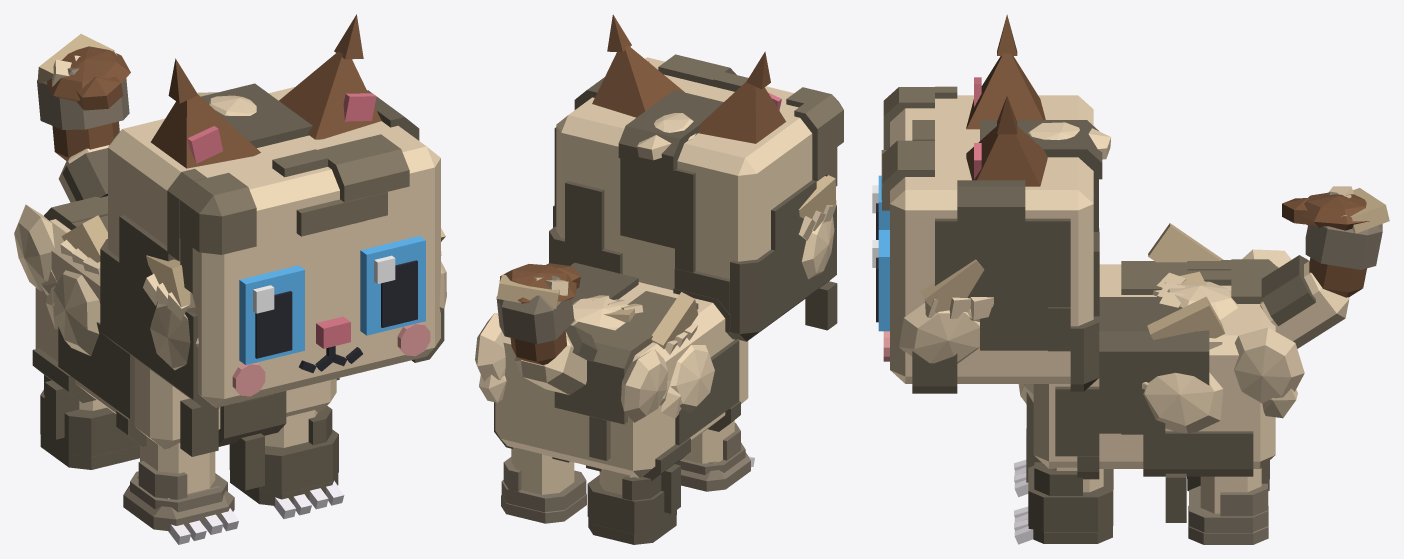
File: CleanACat_Cat_Toffee_Dirty.fbx
The picture shows the model from 3 angles, left to right: view 1: azimuth 30°, elevation 25°; view 2: azimuth 150°, elevation 25°; view 3: azimuth 270°, elevation 25°; orthographic projection. The views are drawn at different scales.
Visible parts, largest first — view 1: CleanACat_Cat_Toffee_Dirty_Head, CleanACat_Cat_Toffee_Dirty_Mud01, CleanACat_Cat_Toffee_Dirty_Mud03, CleanACat_Cat_Toffee_Dirty_Mud06, CleanACat_Cat_Toffee_Dirty_Body, CleanACat_Cat_Toffee_Dirty_EarL, CleanACat_Cat_Toffee_Dirty_Eye2, CleanACat_Cat_Toffee_Dirty_Eye1, CleanACat_Cat_Toffee_Dirty_EarR, CleanACat_Cat_Toffee_Dirty_Mud15, CleanACat_Cat_Toffee_Dirty_Mud16, CleanACat_Cat_Toffee_Dirty_Mud10 (+19 smaller); view 2: CleanACat_Cat_Toffee_Dirty_Head, CleanACat_Cat_Toffee_Dirty_Body, CleanACat_Cat_Toffee_Dirty_Mud01, CleanACat_Cat_Toffee_Dirty_Mud04, CleanACat_Cat_Toffee_Dirty_Mud09, CleanACat_Cat_Toffee_Dirty_Mud18, CleanACat_Cat_Toffee_Dirty_Mud05, CleanACat_Cat_Toffee_Dirty_EarL, CleanACat_Cat_Toffee_Dirty_EarR, CleanACat_Cat_Toffee_Dirty_Mud10, CleanACat_Cat_Toffee_Dirty_Tail, CleanACat_Cat_Toffee_Dirty_Mud06 (+23 smaller); view 3: CleanACat_Cat_Toffee_Dirty_Head, CleanACat_Cat_Toffee_Dirty_Mud02, CleanACat_Cat_Toffee_Dirty_Mud08, CleanACat_Cat_Toffee_Dirty_Body, CleanACat_Cat_Toffee_Dirty_Mud11, CleanACat_Cat_Toffee_Dirty_Mud15, CleanACat_Cat_Toffee_Dirty_Fluff09, CleanACat_Cat_Toffee_Dirty_EarL, CleanACat_Cat_Toffee_Dirty_Mud17, CleanACat_Cat_Toffee_Dirty_Tail, CleanACat_Cat_Toffee_Dirty_EarR, CleanACat_Cat_Toffee_Dirty_Fluff05 (+22 smaller).
Part boxes in pixels (x1,y1,x2,y2): CleanACat_Cat_Toffee_Dirty_Head: [108, 87, 440, 407]; CleanACat_Cat_Toffee_Dirty_Mud01: [100, 215, 219, 456]; CleanACat_Cat_Toffee_Dirty_Mud03: [272, 134, 409, 236]; CleanACat_Cat_Toffee_Dirty_Mud06: [167, 168, 256, 293]; CleanACat_Cat_Toffee_Dirty_Body: [35, 219, 336, 449]; CleanACat_Cat_Toffee_Dirty_EarL: [279, 14, 381, 139]; CleanACat_Cat_Toffee_Dirty_Eye2: [239, 265, 304, 364]; CleanACat_Cat_Toffee_Dirty_Eye1: [360, 236, 425, 335]; CleanACat_Cat_Toffee_Dirty_EarR: [151, 58, 260, 168]; CleanACat_Cat_Toffee_Dirty_Mud15: [229, 406, 338, 505]; CleanACat_Cat_Toffee_Dirty_Mud16: [123, 461, 234, 531]; CleanACat_Cat_Toffee_Dirty_Mud10: [58, 322, 146, 446]; CleanACat_Cat_Toffee_Dirty_Head: [556, 57, 816, 290]; CleanACat_Cat_Toffee_Dirty_Body: [495, 282, 748, 478]; CleanACat_Cat_Toffee_Dirty_Mud01: [674, 180, 837, 341]; CleanACat_Cat_Toffee_Dirty_Mud04: [618, 90, 723, 272]; CleanACat_Cat_Toffee_Dirty_Mud09: [554, 317, 649, 460]; CleanACat_Cat_Toffee_Dirty_Mud18: [587, 474, 676, 544]; CleanACat_Cat_Toffee_Dirty_Mud05: [549, 181, 622, 273]; CleanACat_Cat_Toffee_Dirty_EarL: [592, 14, 684, 117]; CleanACat_Cat_Toffee_Dirty_EarR: [698, 51, 785, 143]; CleanACat_Cat_Toffee_Dirty_Mud10: [673, 288, 740, 445]; CleanACat_Cat_Toffee_Dirty_Tail: [510, 330, 586, 394]; CleanACat_Cat_Toffee_Dirty_Mud06: [786, 87, 843, 186]; CleanACat_Cat_Toffee_Dirty_Head: [883, 95, 1093, 383]; CleanACat_Cat_Toffee_Dirty_Mud02: [912, 180, 1070, 393]; CleanACat_Cat_Toffee_Dirty_Mud08: [1099, 297, 1209, 434]; CleanACat_Cat_Toffee_Dirty_Body: [1033, 264, 1275, 468]; CleanACat_Cat_Toffee_Dirty_Mud11: [1143, 431, 1253, 522]; CleanACat_Cat_Toffee_Dirty_Mud15: [1028, 462, 1113, 543]; CleanACat_Cat_Toffee_Dirty_Fluff09: [1234, 327, 1304, 418]; CleanACat_Cat_Toffee_Dirty_EarL: [966, 96, 1047, 186]; CleanACat_Cat_Toffee_Dirty_Mud17: [1188, 483, 1268, 544]; CleanACat_Cat_Toffee_Dirty_Tail: [1260, 257, 1366, 348]; CleanACat_Cat_Toffee_Dirty_EarR: [966, 14, 1045, 129]; CleanACat_Cat_Toffee_Dirty_Fluff05: [1142, 372, 1223, 433].
Size of the model in its own units: 1.13 by 1.97 by 2.03.
1 material, 1 textured.
